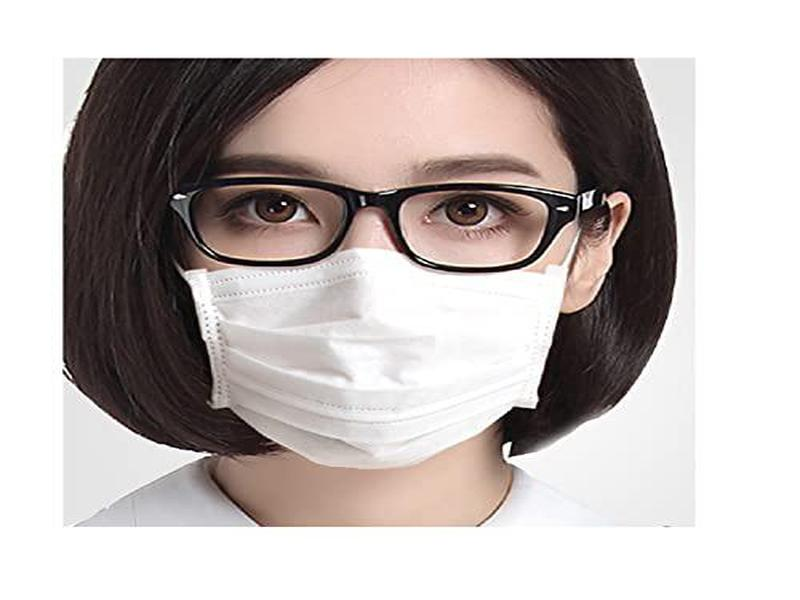with_mask: (168, 61, 589, 467)
